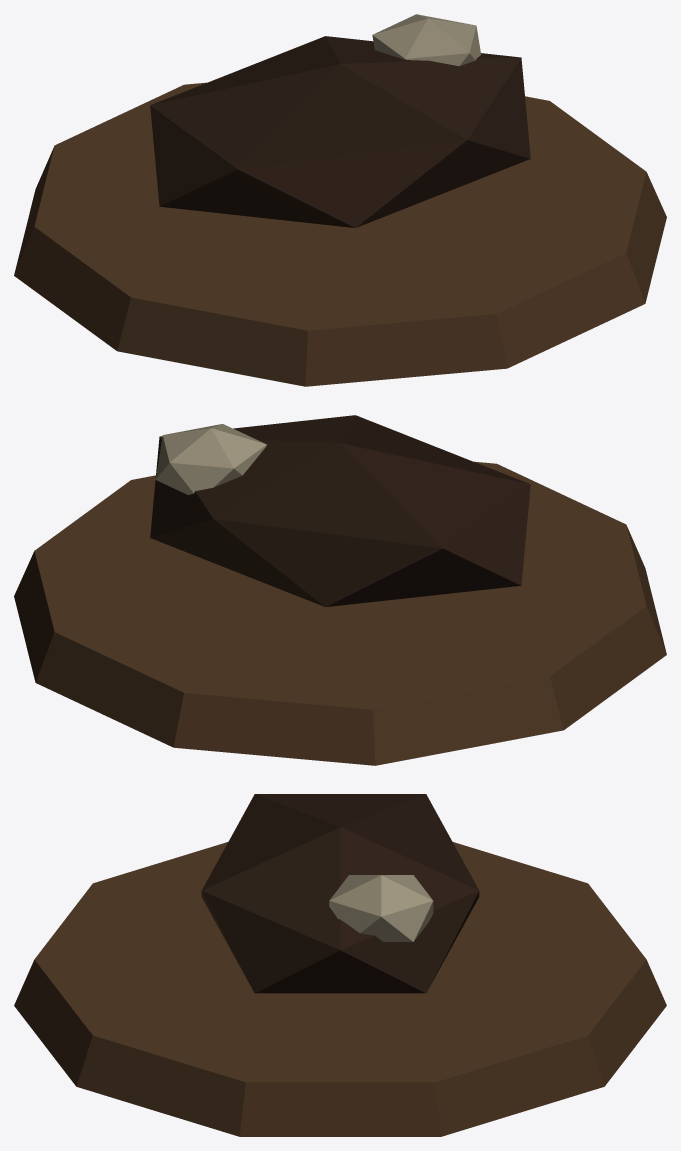
The model's file is steak.glb.
3 renders of one model, top to bottom at view 1: azimuth 30°, elevation 25°; view 2: azimuth 150°, elevation 25°; view 3: azimuth 270°, elevation 25°, orthographic. The views are drawn at different scales.
Parts seen in each view (by area): view 1: Steak; view 2: Steak; view 3: Steak.
Part boxes in pixels (x1,y1,x2,y2): Steak: [14, 14, 666, 386]; Steak: [14, 415, 666, 765]; Steak: [14, 794, 666, 1136].
Size of the model in its own units: 0.3043 by 0.0985 by 0.32.
